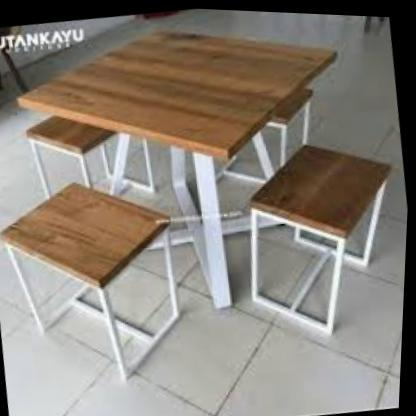Dining Table: (0, 0, 416, 410)
